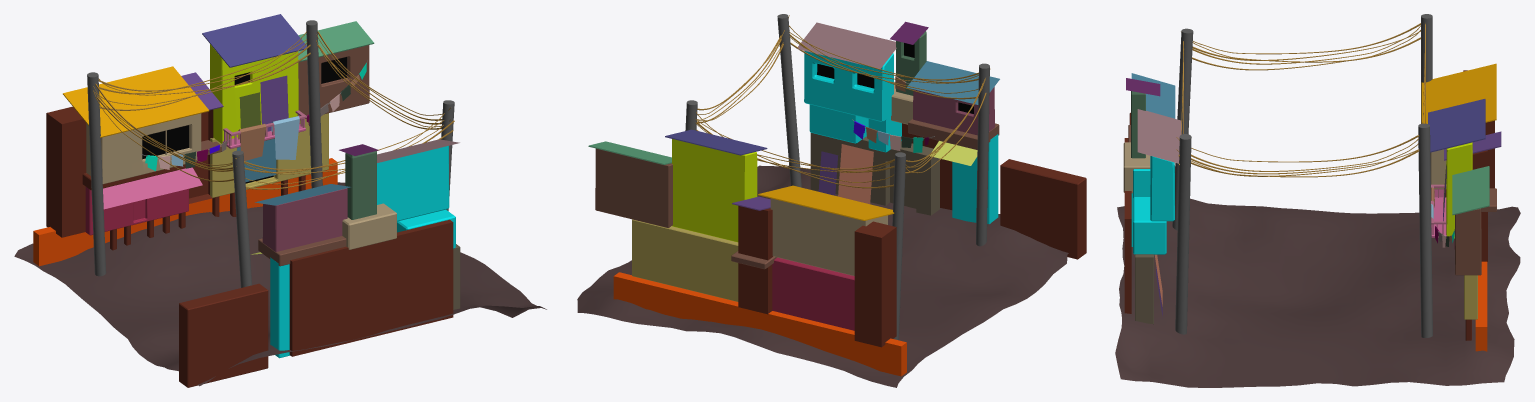
File: DOn't use Slam.fbx
3 renders of one model, left to right at view 1: azimuth 30°, elevation 25°; view 2: azimuth 150°, elevation 25°; view 3: azimuth 270°, elevation 25°, orthographic. The views are drawn at different scales.
Visible parts, largest first — view 1: pPlane1, pCube74, pCube22, pCube2, pCube10, pCube7, pCube25, pCube14, pCube28, pCube34, pCube15, pCube16 (+24 smaller); view 2: pPlane1, pCube34, pCube14, pCube22, pCube13, pCube10, pCube7, pCube16, pCube25, pCube20, pCube11, pCube8 (+20 smaller); view 3: pPlane1, pCube2, pCylinder2, pCylinder3, pCube15, pPlane2, pCube16, pCube24, pCube25, pCube17, pCylinder4, pCube20 (+25 smaller).
Boxes of the visible parts, <box> form: pPlane1: <box>14,182,546,386</box>; pCube74: <box>289,219,453,356</box>; pCube22: <box>179,283,268,387</box>; pCube2: <box>63,66,209,137</box>; pCube10: <box>46,106,86,237</box>; pCube7: <box>86,113,201,184</box>; pCube25: <box>377,145,449,221</box>; pCube14: <box>210,44,298,143</box>; pCube28: <box>262,188,347,251</box>; pCube34: <box>33,158,337,266</box>; pCube15: <box>202,14,306,67</box>; pCube16: <box>298,45,369,119</box>; pPlane1: <box>577,165,1068,387</box>; pCube34: <box>613,272,906,376</box>; pCube14: <box>672,139,757,242</box>; pCube22: <box>1000,159,1086,259</box>; pCube13: <box>632,219,738,301</box>; pCube10: <box>854,221,896,347</box>; pCube7: <box>770,198,887,275</box>; pCube16: <box>595,148,672,227</box>; pCube25: <box>804,51,893,121</box>; pCube20: <box>810,133,939,215</box>; pCube11: <box>772,257,854,330</box>; pCube8: <box>738,206,772,314</box>; pPlane1: <box>1115,198,1520,387</box>; pCube2: <box>1421,63,1496,123</box>; pCylinder2: <box>1418,123,1432,337</box>; pCylinder3: <box>1175,134,1191,334</box>; pCube15: <box>1428,99,1485,152</box>; pPlane2: <box>1137,109,1181,163</box>; pCube16: <box>1455,208,1481,275</box>; pCube24: <box>1133,197,1166,254</box>; pCube25: <box>1150,156,1174,221</box>; pCube17: <box>1452,166,1489,215</box>; pCylinder4: <box>1172,28,1193,230</box>; pCube20: <box>1135,254,1153,324</box>.
Bounding box in the file's own units: 363 × 206 × 342.
